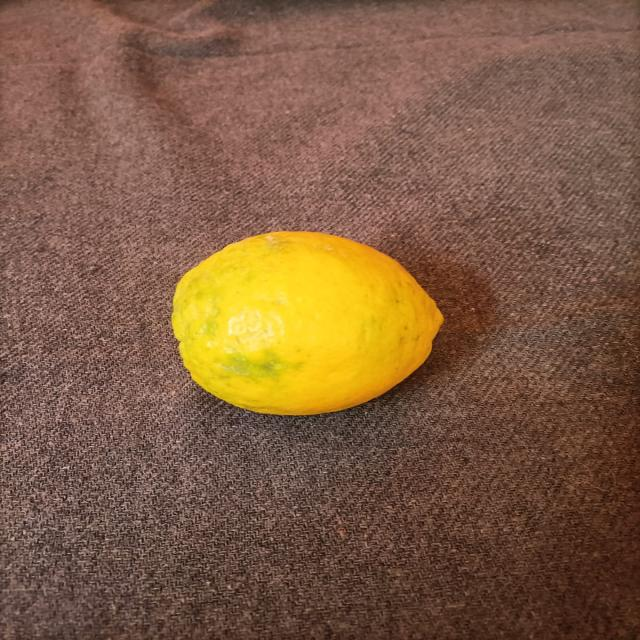orange: (141, 203, 466, 519)
